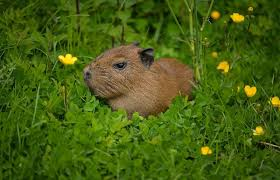capivara: (82, 42, 198, 120)
